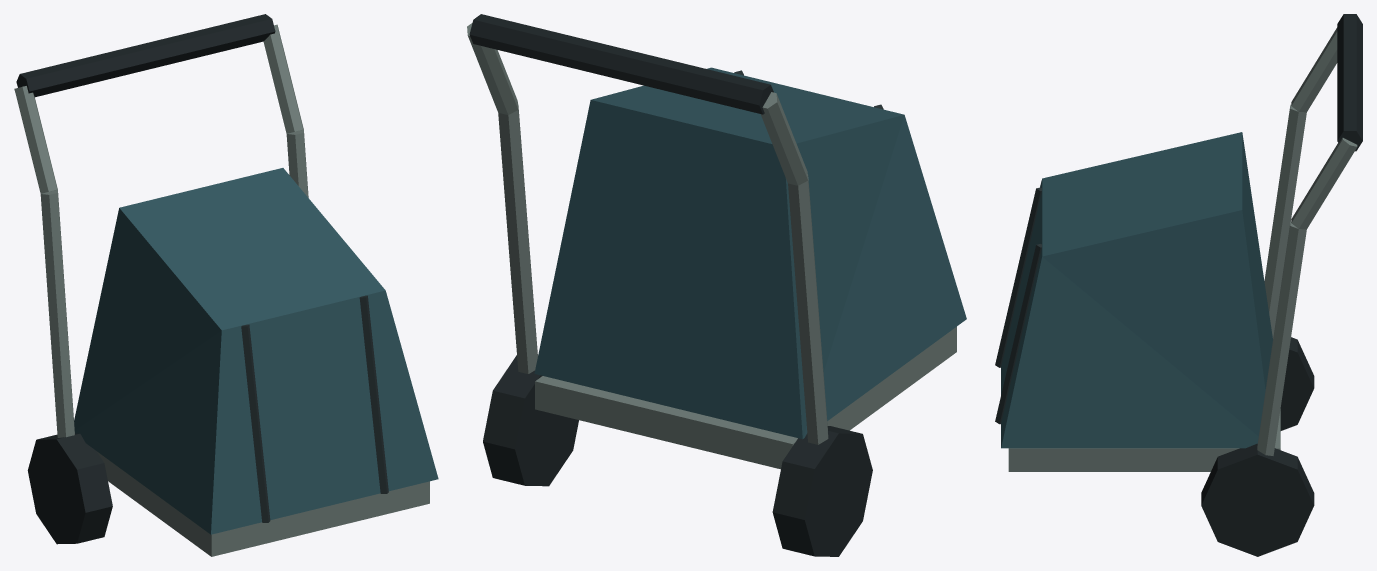
3 renders of one model, left to right at view 1: azimuth 30°, elevation 25°; view 2: azimuth 150°, elevation 25°; view 3: azimuth 270°, elevation 25°, orthographic. The views are drawn at different scales.
Parts seen in each view (by area): view 1: a118; view 2: a118; view 3: a118.
Part boxes in pixels (x1,y1,x2,y2): a118: [14, 14, 438, 556]; a118: [467, 14, 966, 556]; a118: [995, 14, 1362, 556].
Size of the model in its own units: 0.6 by 0.9017 by 0.7168.
